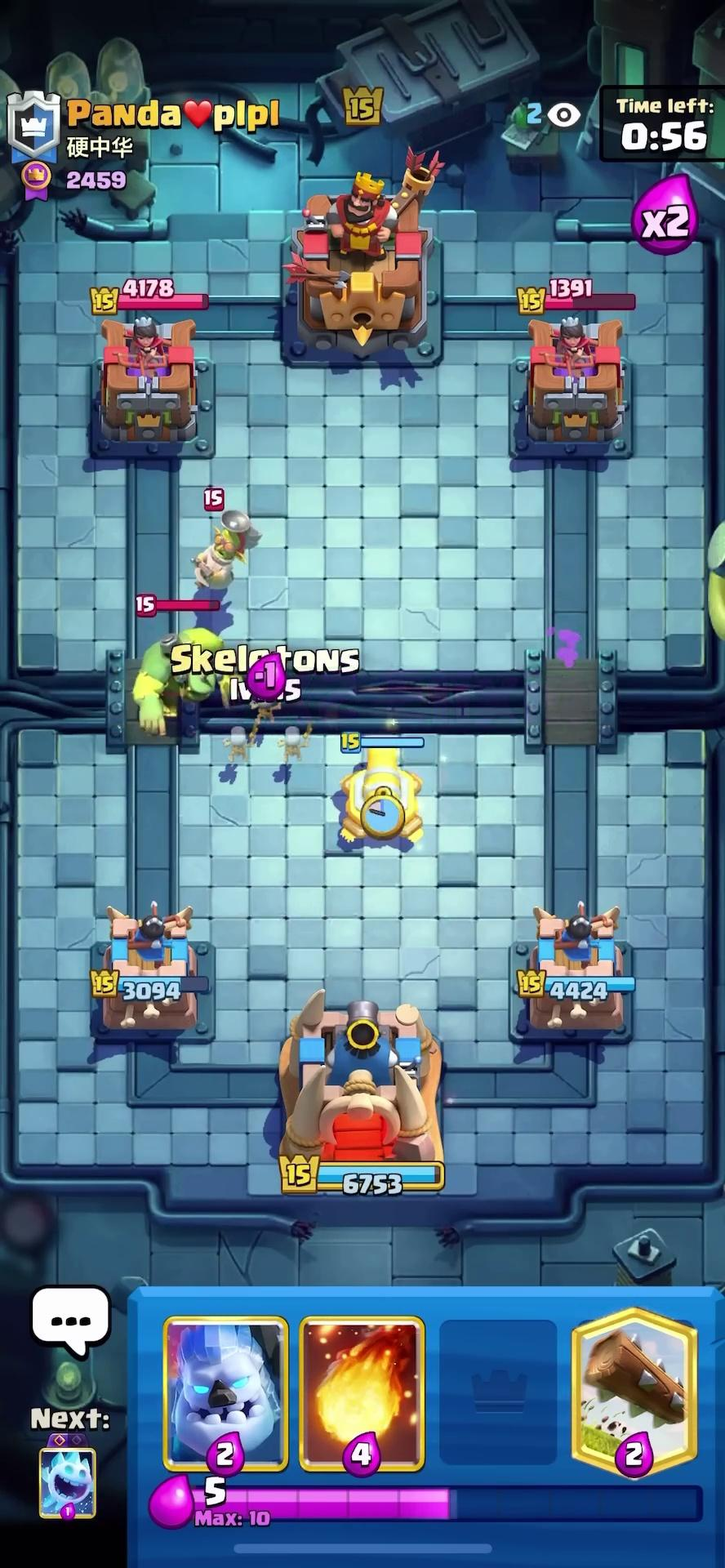cannon: (322, 725, 451, 847)
